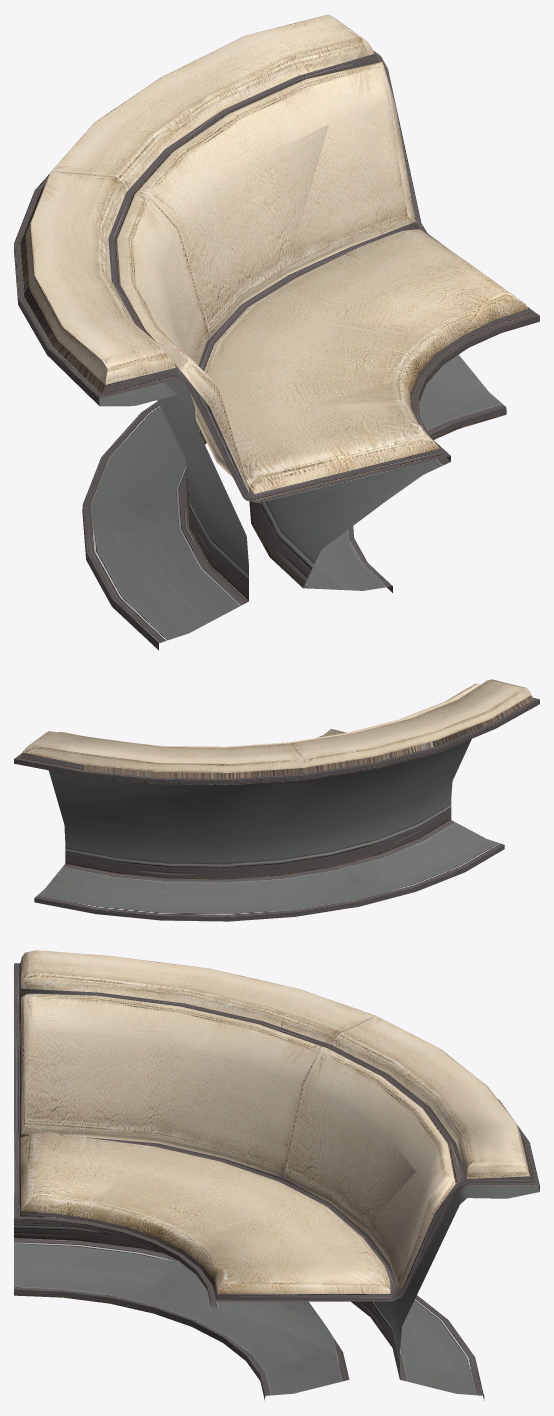
Rendered from Neon_Seat_BendIn_01.FBX.
The picture shows the model from 3 angles, top to bottom: view 1: azimuth 30°, elevation 25°; view 2: azimuth 150°, elevation 25°; view 3: azimuth 270°, elevation 25°; orthographic projection. The views are drawn at different scales.
Visible parts, largest first — view 1: Neon_Seat_BendIn_01; view 2: Neon_Seat_BendIn_01; view 3: Neon_Seat_BendIn_01.
Part boxes in pixels (left/top/right/bottom): Neon_Seat_BendIn_01: left=14, top=14, right=539, bottom=650; Neon_Seat_BendIn_01: left=14, top=679, right=539, bottom=921; Neon_Seat_BendIn_01: left=14, top=950, right=539, bottom=1400.
Size of the model in its own units: 2 by 0.9902 by 2.
